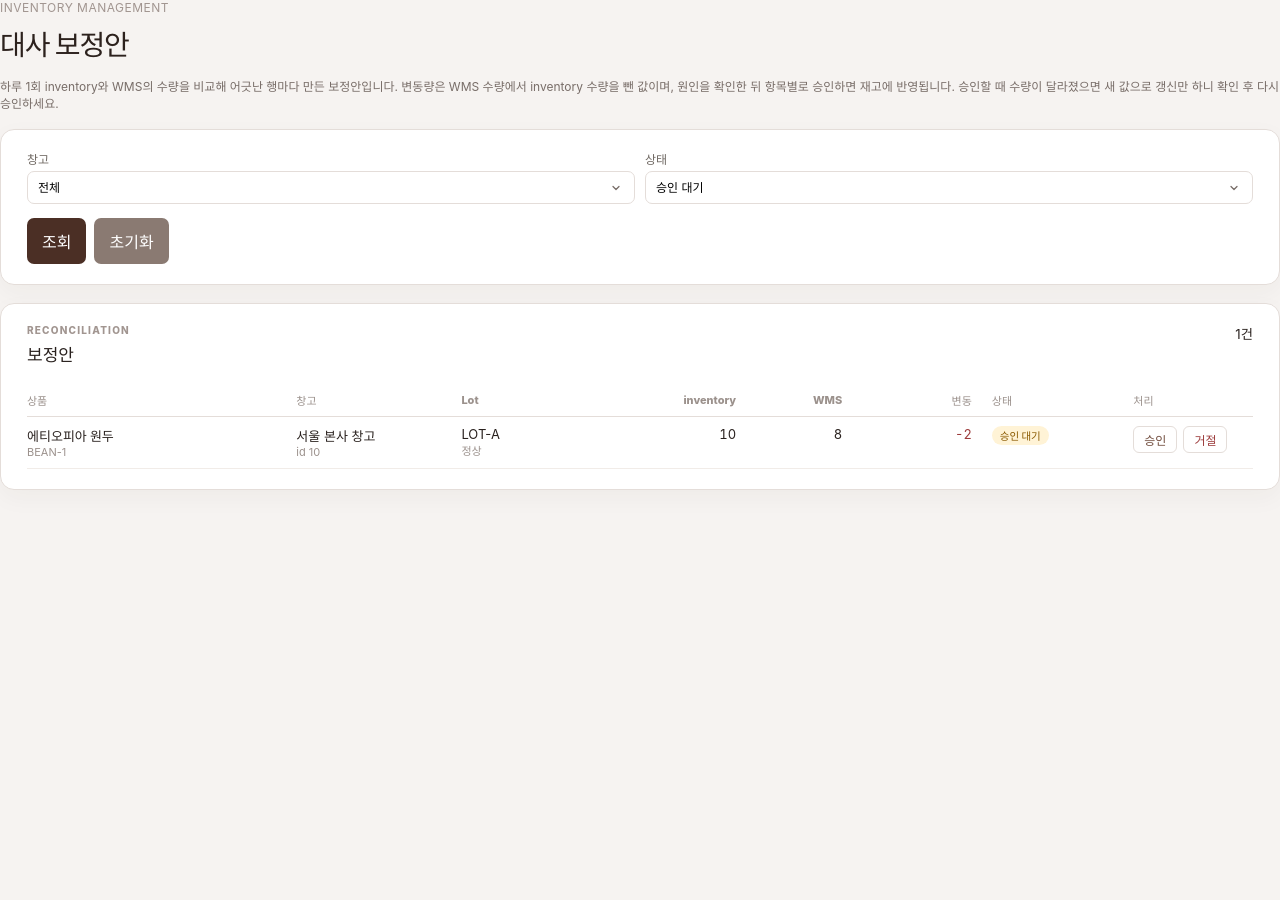
it: ReconciliationsPage › 승인·거절 › 확인창은 대상(상품·코드·Lot·품질·창고)과 inventory → WMS 수량 비교, 변동량, 결과 안내를 나눠 보여준다
What coordinates should you click on to do the following:
click the button with aria-label "에티오피아 원두 LOT-A 승인"
I would click on:
 (1155, 440)
Its box is left=1133, top=426, right=1177, bottom=453.
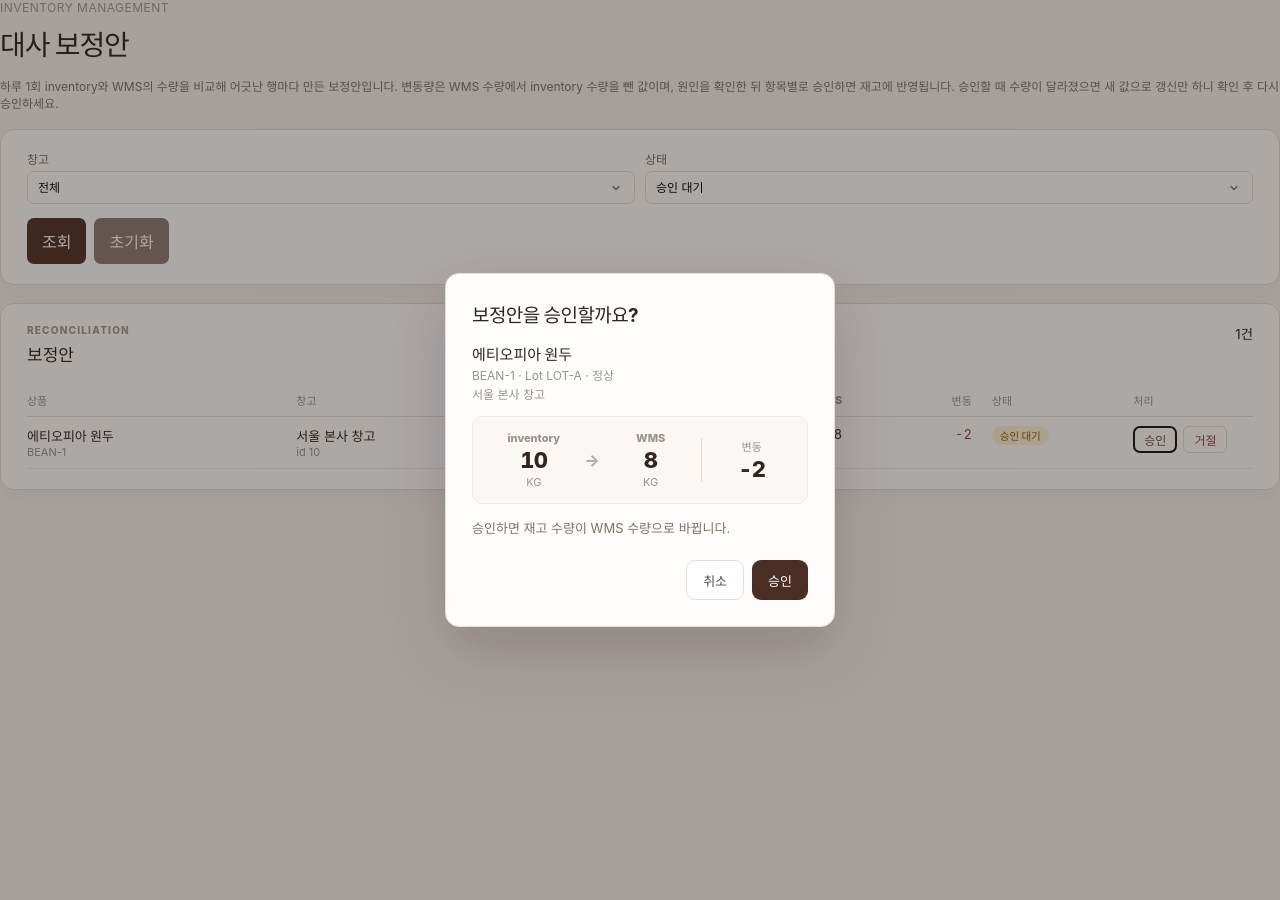
Expected: the text "에티오피아 원두" is shown, left=472, top=345, right=572, bottom=364
Expected: the text "BEAN-1 · Lot LOT-A · 정상" is shown, left=472, top=368, right=614, bottom=383
Expected: the text "서울 본사 창고" is shown, left=472, top=387, right=545, bottom=402
